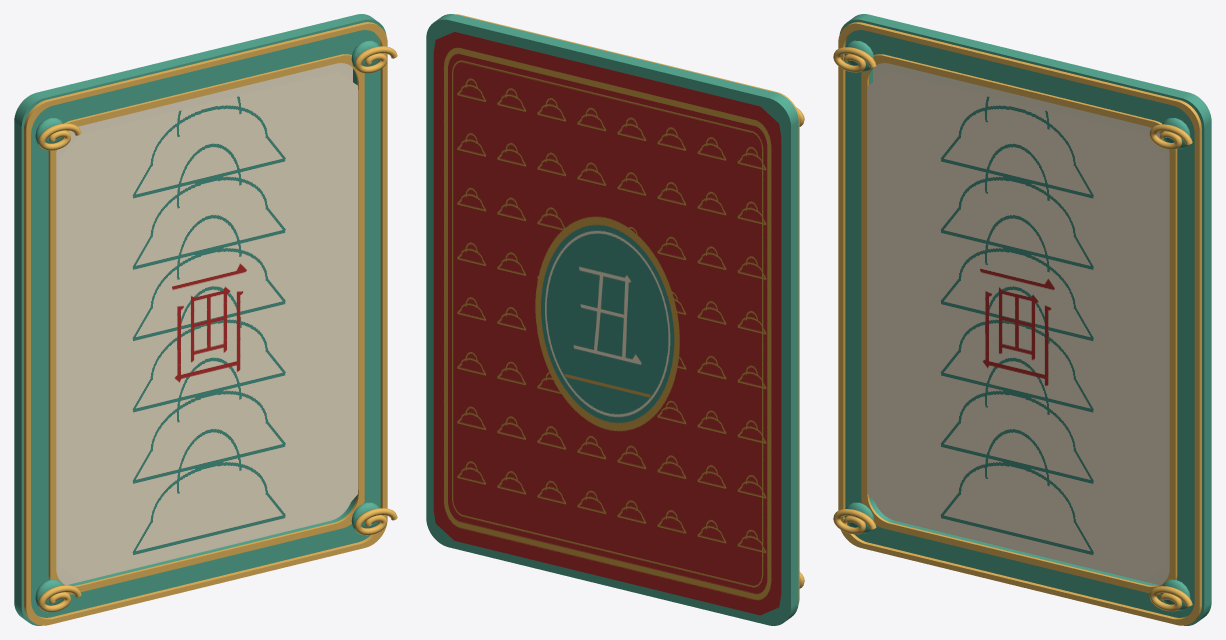
Rendered from joker-frame-rare.glb.
3 views of the same model, side by side, from view 1: azimuth 30°, elevation 25°; view 2: azimuth 150°, elevation 25°; view 3: azimuth 330°, elevation 25° (orthographic).
Parts seen in each view (by area): view 1: ReplaceableIllustration, Frame_rare; view 2: Frame_rare; view 3: ReplaceableIllustration, Frame_rare.
Part boxes in pixels (x1,y1,x2,y2): ReplaceableIllustration: (59, 72, 358, 580); Frame_rare: (14, 14, 397, 625); Frame_rare: (426, 14, 804, 625); ReplaceableIllustration: (867, 72, 1166, 580); Frame_rare: (833, 14, 1211, 625).
Size of the model in its own units: 2.1 by 2.9 by 0.218.
Materials: 5 (2 with a texture image).
